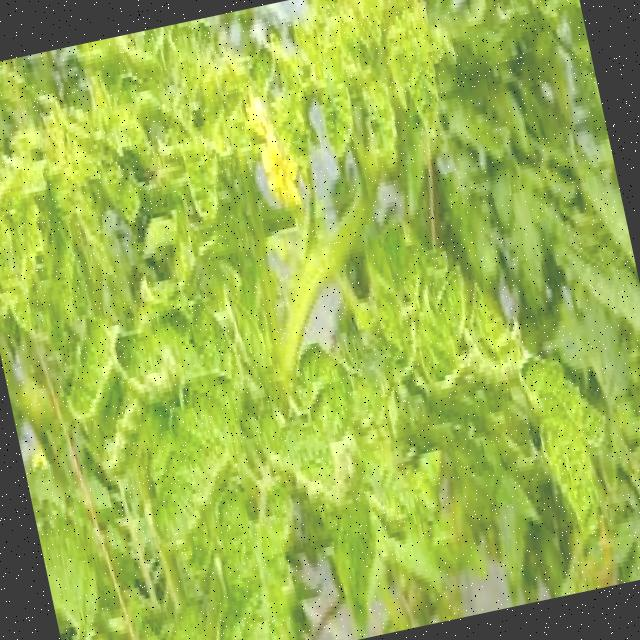leaf curl: (284, 244, 635, 639), (0, 0, 473, 291), (0, 285, 338, 640)
